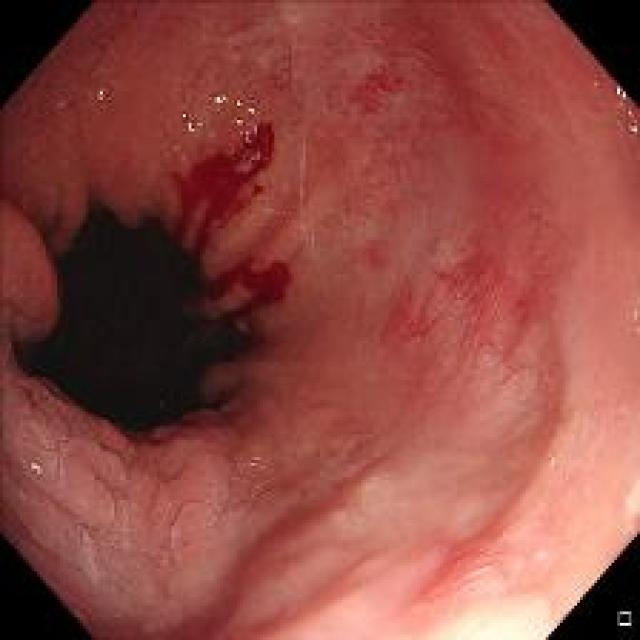blood: (170, 124, 276, 204), (209, 260, 290, 315), (171, 200, 234, 259)
bubbles: (256, 196, 281, 224), (539, 444, 561, 472)
contrast: (15, 161, 274, 449)
saturation: (415, 572, 559, 638)
specularity: (611, 76, 639, 144), (22, 449, 55, 485), (230, 100, 260, 130), (82, 78, 110, 110), (176, 108, 202, 139), (208, 85, 230, 111)
